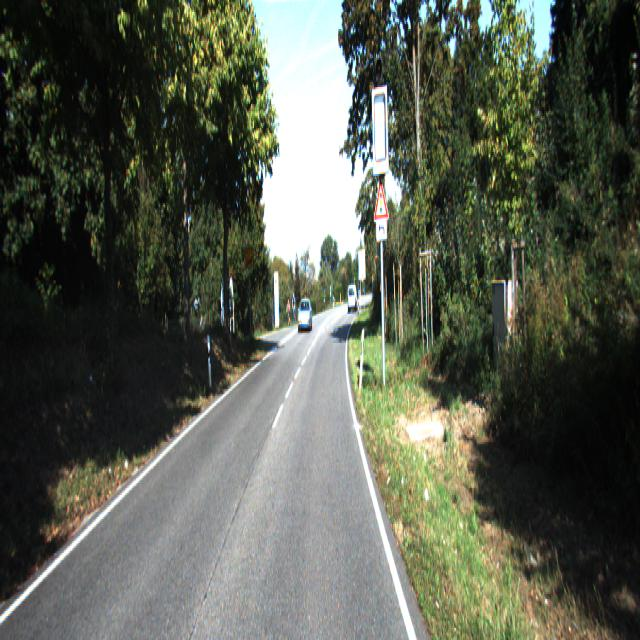Car: (298, 300, 312, 334)
